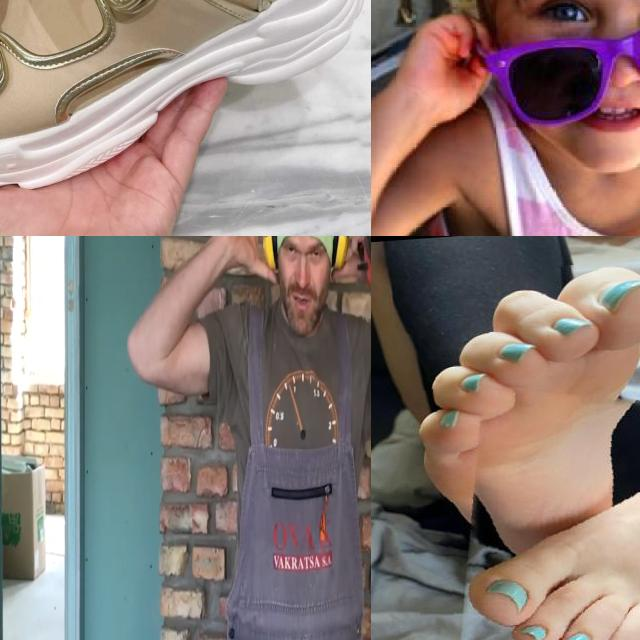Barefoots: (450, 257, 640, 578), (438, 460, 640, 640)
Ear-protection: (259, 236, 354, 325)
No_Glasses: (279, 236, 325, 272)
Sandals: (0, 0, 371, 208)
face_nomask: (519, 0, 640, 137)
glasses: (480, 3, 640, 125)
hand_noglove: (405, 5, 503, 105)
person: (412, 0, 640, 236)
